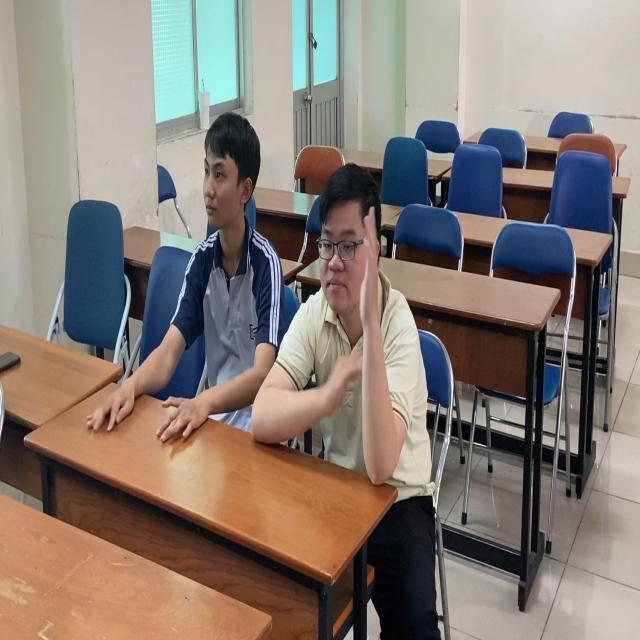raise_hand: (277, 165, 433, 497)
